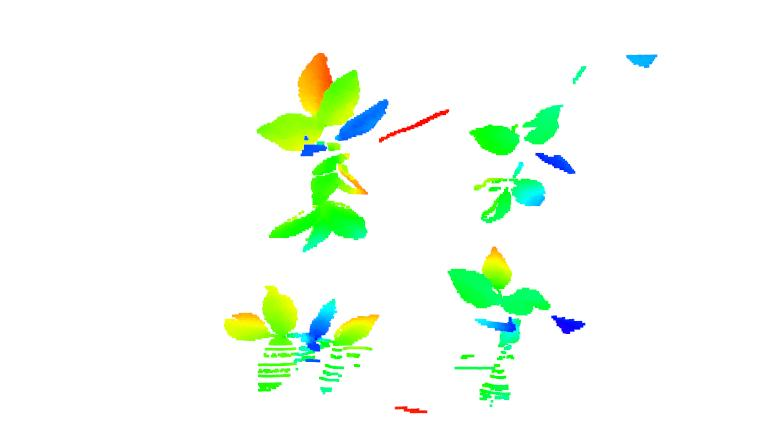mungbean: (256, 51, 386, 248), (443, 244, 593, 399), (217, 284, 380, 396), (468, 96, 579, 222)
